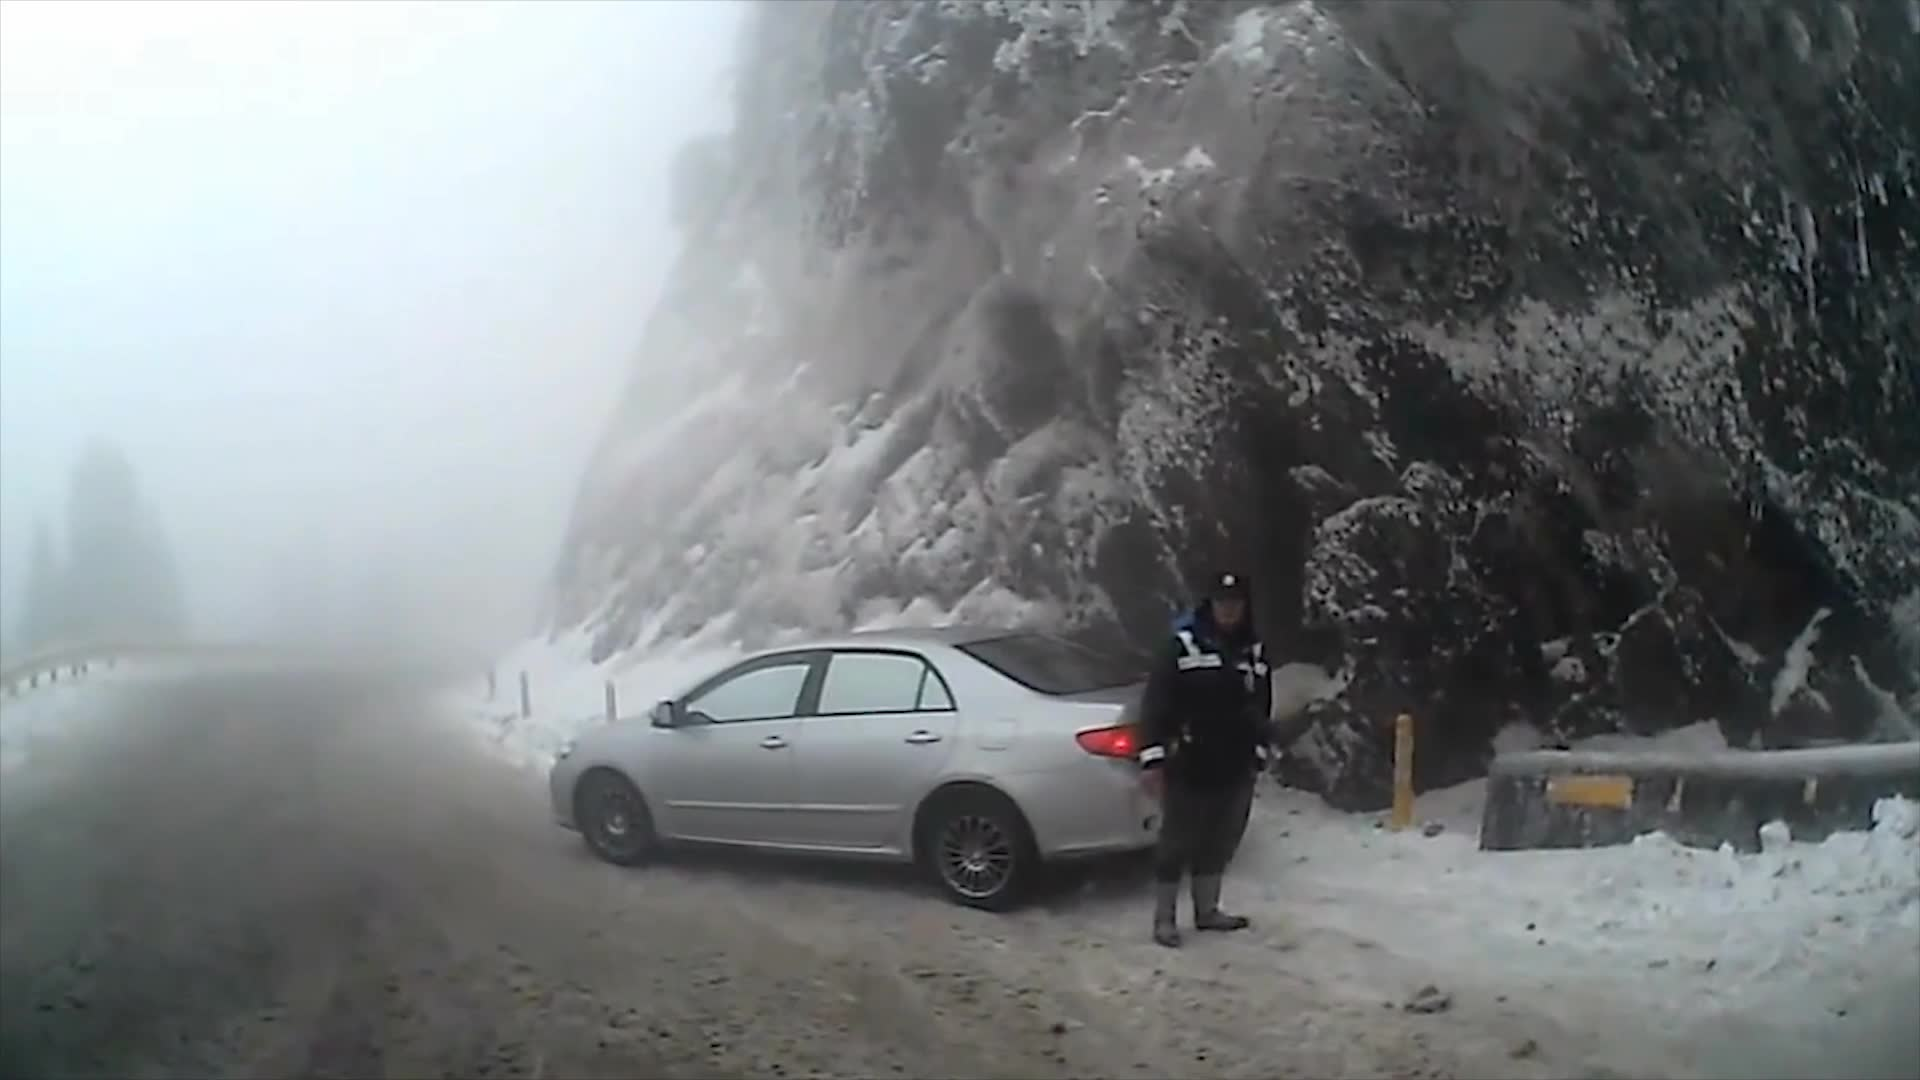pedestrian: (1133, 569, 1274, 946)
vehicle: (545, 622, 1256, 911)
